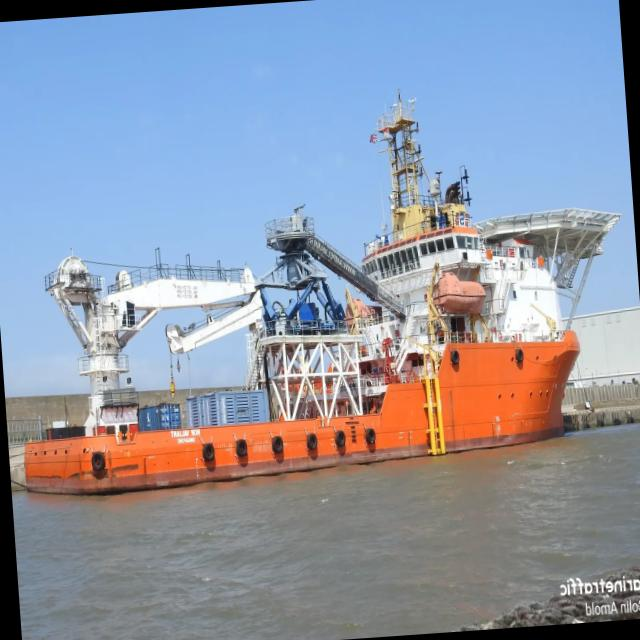Offshore: (25, 92, 620, 493)
